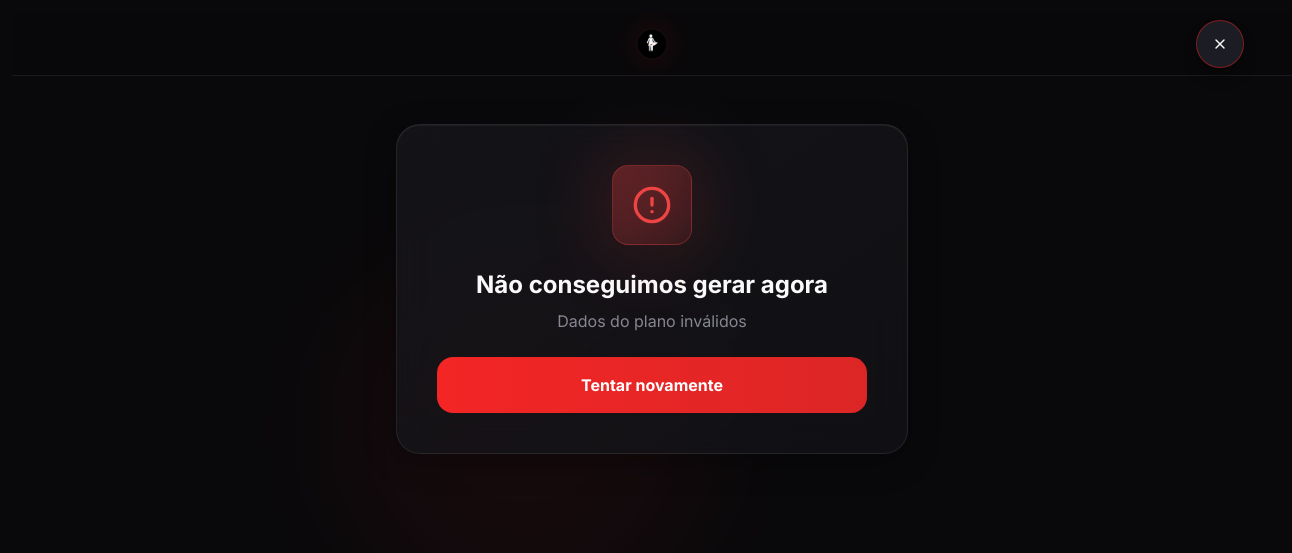
Test: checkout access and validity › lets the visitor leave checkout while the session is still being checked
Click the button named "Sair do checkout" at (1220, 44), box [1196,20,1244,68]
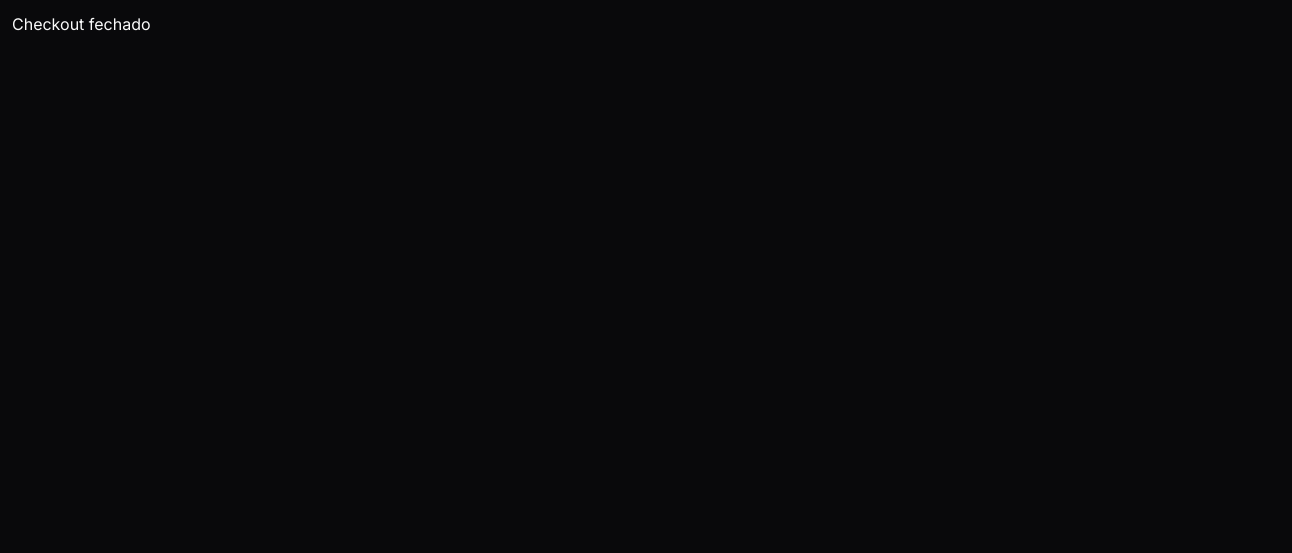
Expected: the text "Checkout fechado" is shown, [12,14,151,34]
